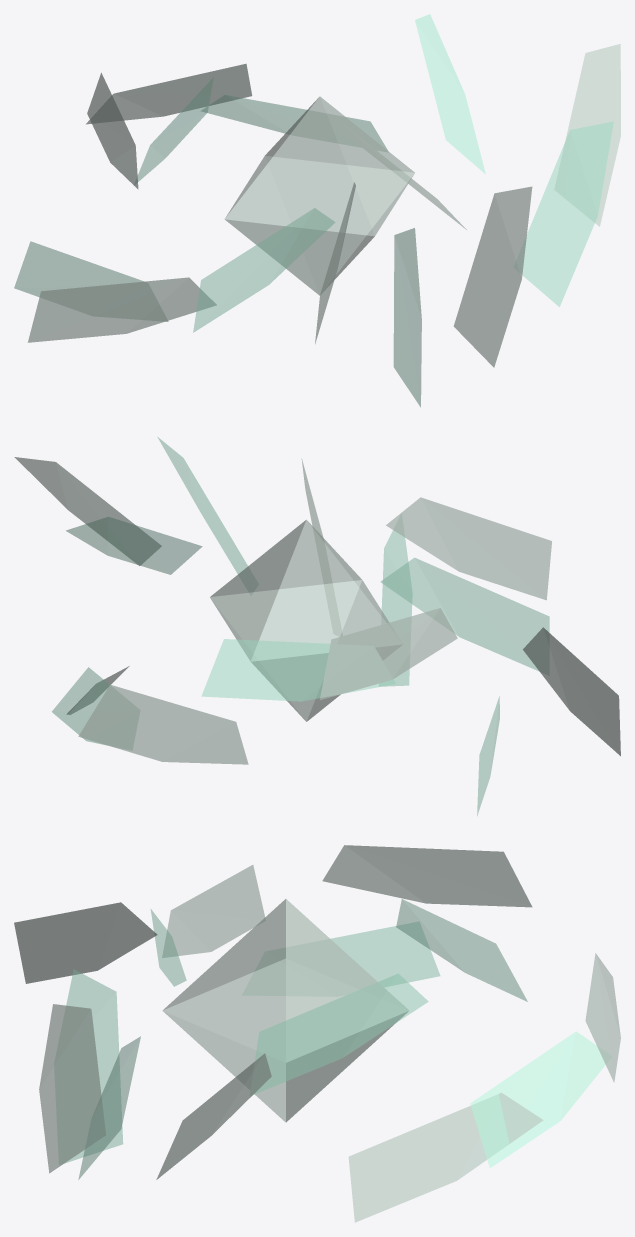
Rendered from golem_hit_glass_splinters.obj.
3 renders of one model, top to bottom at view 1: azimuth 30°, elevation 25°; view 2: azimuth 150°, elevation 25°; view 3: azimuth 270°, elevation 25°, orthographic. The views are drawn at different scales.
Parts seen in each view (by area): view 1: white_glass_flash, glass_splinter_3, glass_splinter_12, glass_splinter_4, glass_splinter_2, glass_splinter_13, glass_splinter_8, glass_splinter_1, glass_splinter_5, glass_splinter_11, glass_splinter_10, glass_splinter_7 (+3 smaller); view 2: white_glass_flash, glass_splinter_14, glass_splinter_8, glass_splinter_13, glass_splinter_9, glass_splinter_10, glass_splinter_12, glass_splinter_4, glass_splinter_5, glass_splinter_1, glass_splinter_7, glass_splinter_3 (+3 smaller); view 3: white_glass_flash, glass_splinter_6, glass_splinter_10, glass_splinter_5, glass_splinter_2, glass_splinter_7, glass_splinter_14, glass_splinter_12, glass_splinter_1, glass_splinter_9, glass_splinter_11, glass_splinter_4 (+3 smaller).
Boxes of the visible parts, box(x1,y1,x2,y2) form: white_glass_flash: box(224, 96, 414, 295); glass_splinter_3: box(522, 121, 613, 306); glass_splinter_12: box(27, 277, 216, 342); glass_splinter_4: box(554, 44, 620, 226); glass_splinter_2: box(453, 186, 532, 367); glass_splinter_13: box(193, 208, 335, 332); glass_splinter_8: box(86, 63, 252, 124); glass_splinter_1: box(393, 228, 421, 407); glass_splinter_5: box(415, 14, 485, 174); glass_splinter_11: box(14, 241, 168, 321); glass_splinter_10: box(87, 72, 138, 189); glass_splinter_7: box(201, 95, 387, 150); white_glass_flash: box(210, 519, 402, 721); glass_splinter_14: box(386, 497, 551, 600); glass_splinter_8: box(78, 684, 248, 764); glass_splinter_13: box(380, 557, 549, 671); glass_splinter_9: box(201, 639, 395, 701); glass_splinter_10: box(320, 608, 457, 700); glass_splinter_12: box(523, 627, 620, 756); glass_splinter_4: box(14, 457, 161, 565); glass_splinter_5: box(66, 516, 202, 574); glass_splinter_1: box(379, 530, 412, 686); glass_splinter_7: box(52, 667, 109, 745); glass_splinter_3: box(157, 437, 247, 574); white_glass_flash: box(162, 899, 408, 1122); glass_splinter_6: box(348, 1092, 543, 1222); glass_splinter_10: box(322, 845, 532, 907); glass_splinter_5: box(253, 973, 428, 1094); glass_splinter_2: box(39, 1004, 105, 1173); glass_splinter_7: box(470, 1031, 605, 1167); glass_splinter_14: box(14, 902, 157, 983); glass_splinter_12: box(162, 865, 265, 957); glass_splinter_1: box(64, 969, 123, 1163); glass_splinter_9: box(396, 899, 527, 1001); glass_splinter_11: box(330, 922, 440, 986); glass_splinter_4: box(156, 1053, 271, 1179).
Size of the model in its own units: 1.12 by 0.4359 by 0.8834.
